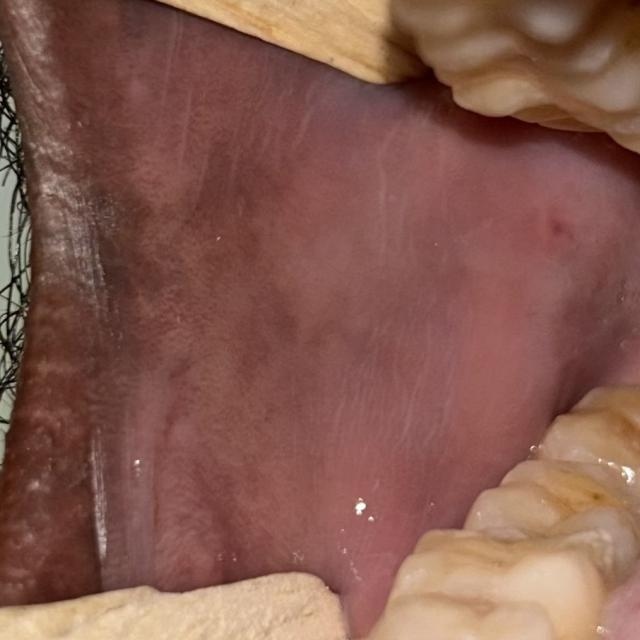leukoplakia-like-detection: (308, 91, 613, 622)
processing_area: (38, 10, 639, 632)
